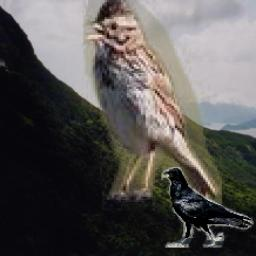Crow: (160, 167, 252, 248)
Sparrow: (81, 0, 221, 212)
